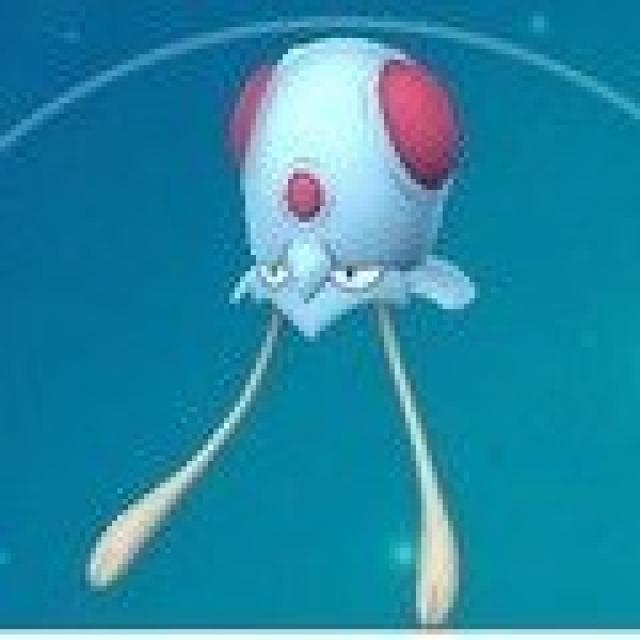Tentacool: (208, 34, 482, 405)
